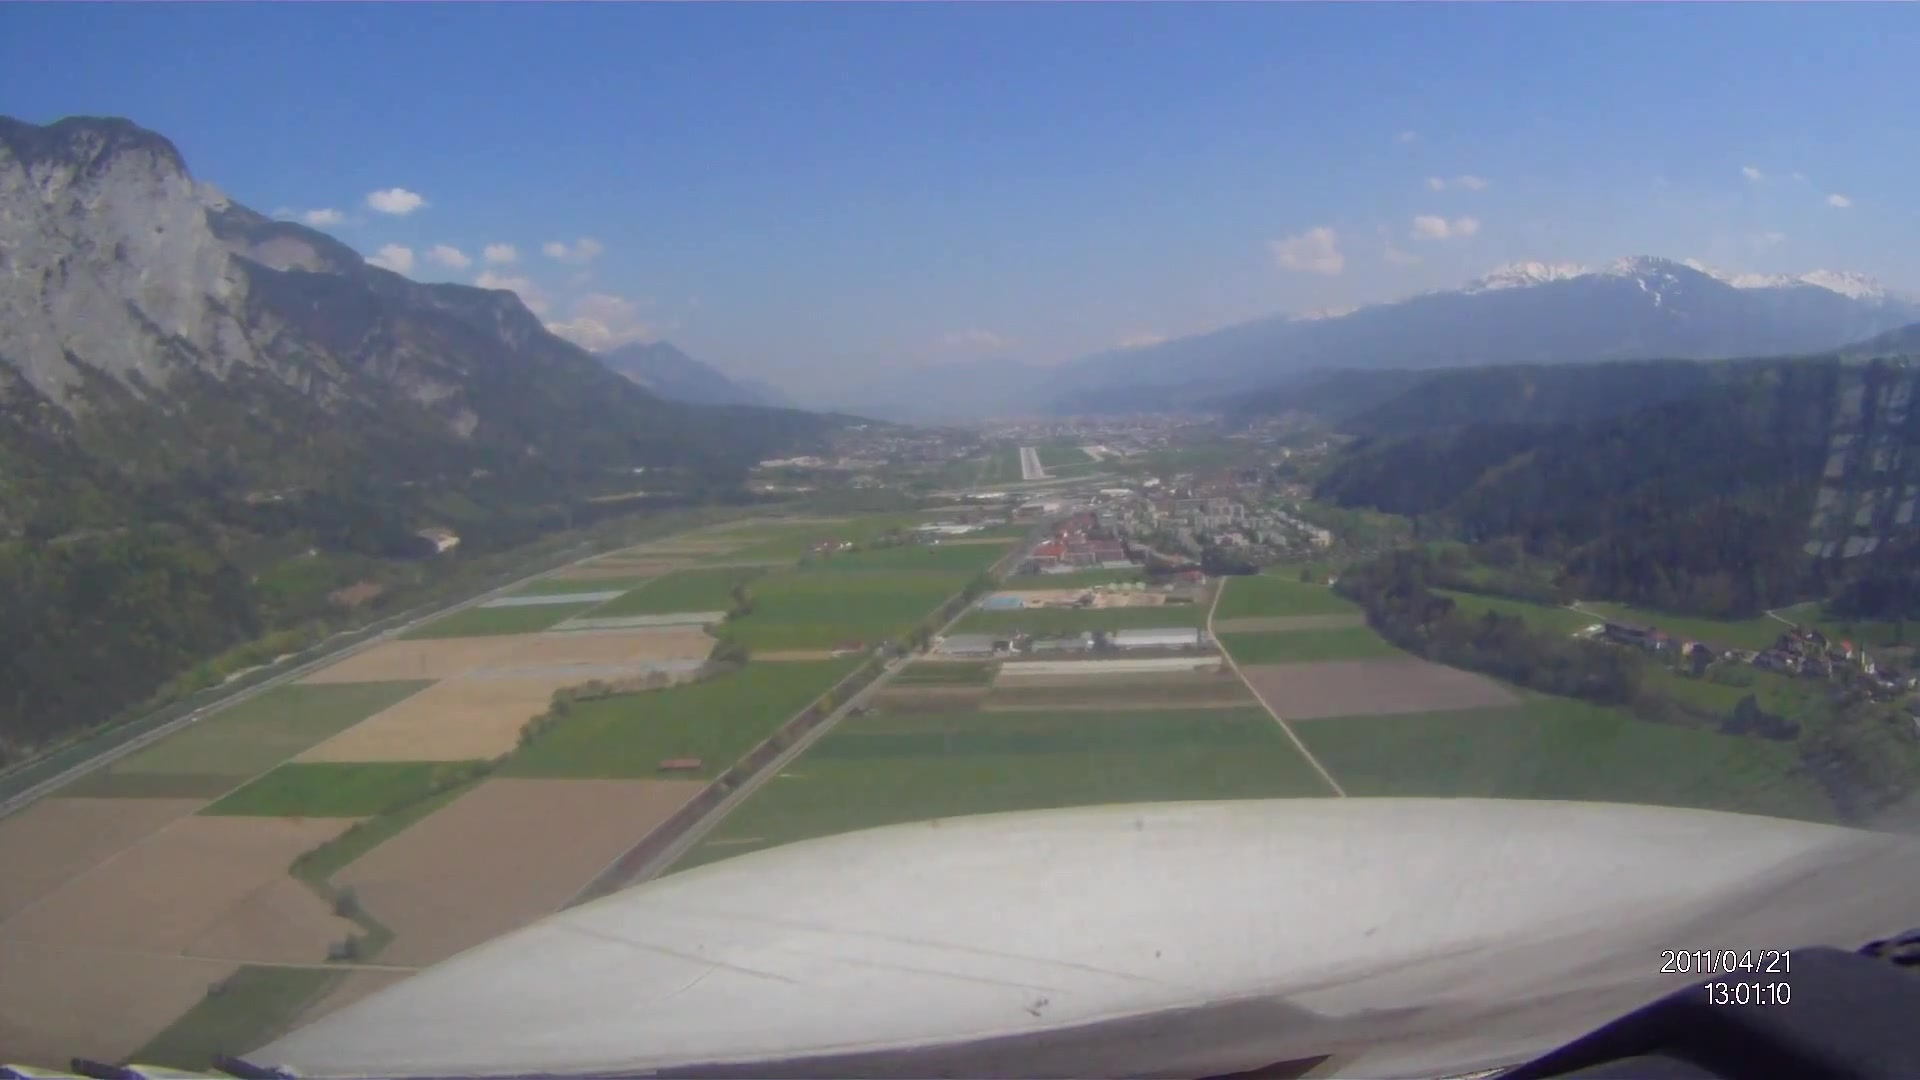runway: (1017, 444, 1044, 483)
